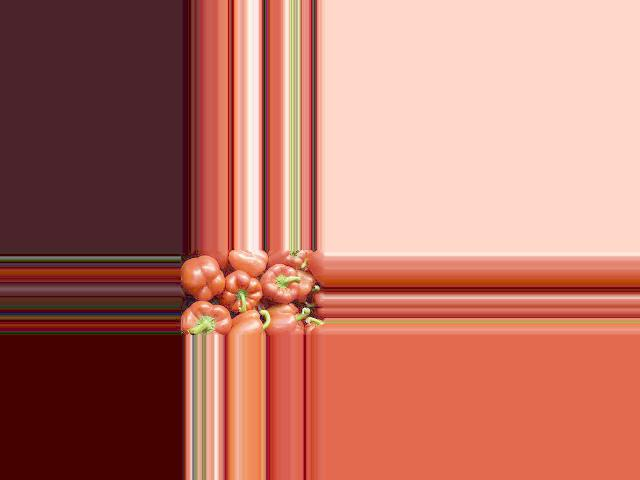bell_pepper: (227, 251, 266, 273)
